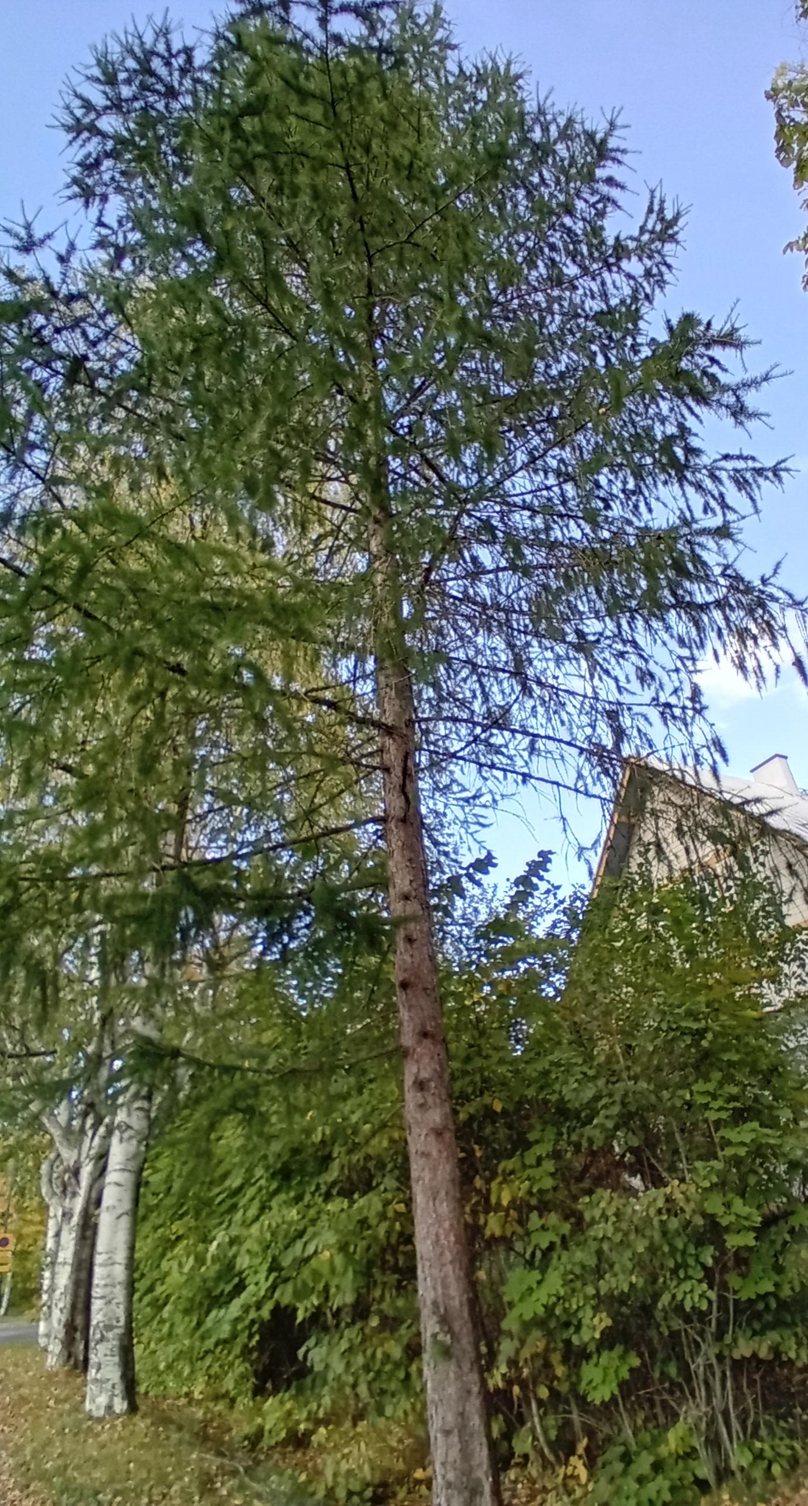Spruce: (148, 0, 672, 1483)
